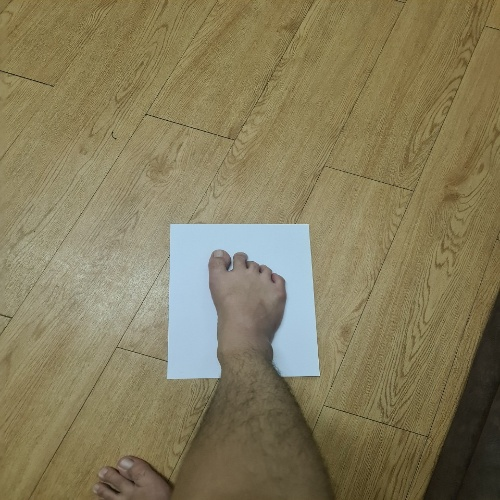Top_Foot: (152, 211, 327, 393)
